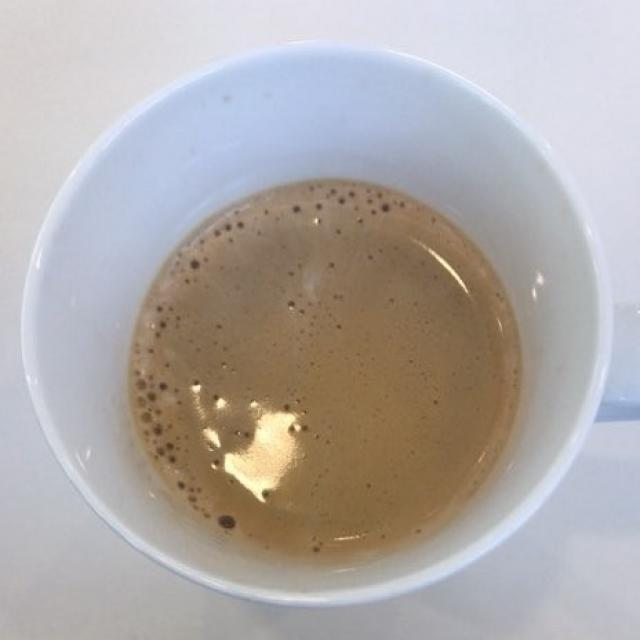coffee: (128, 177, 515, 555)
